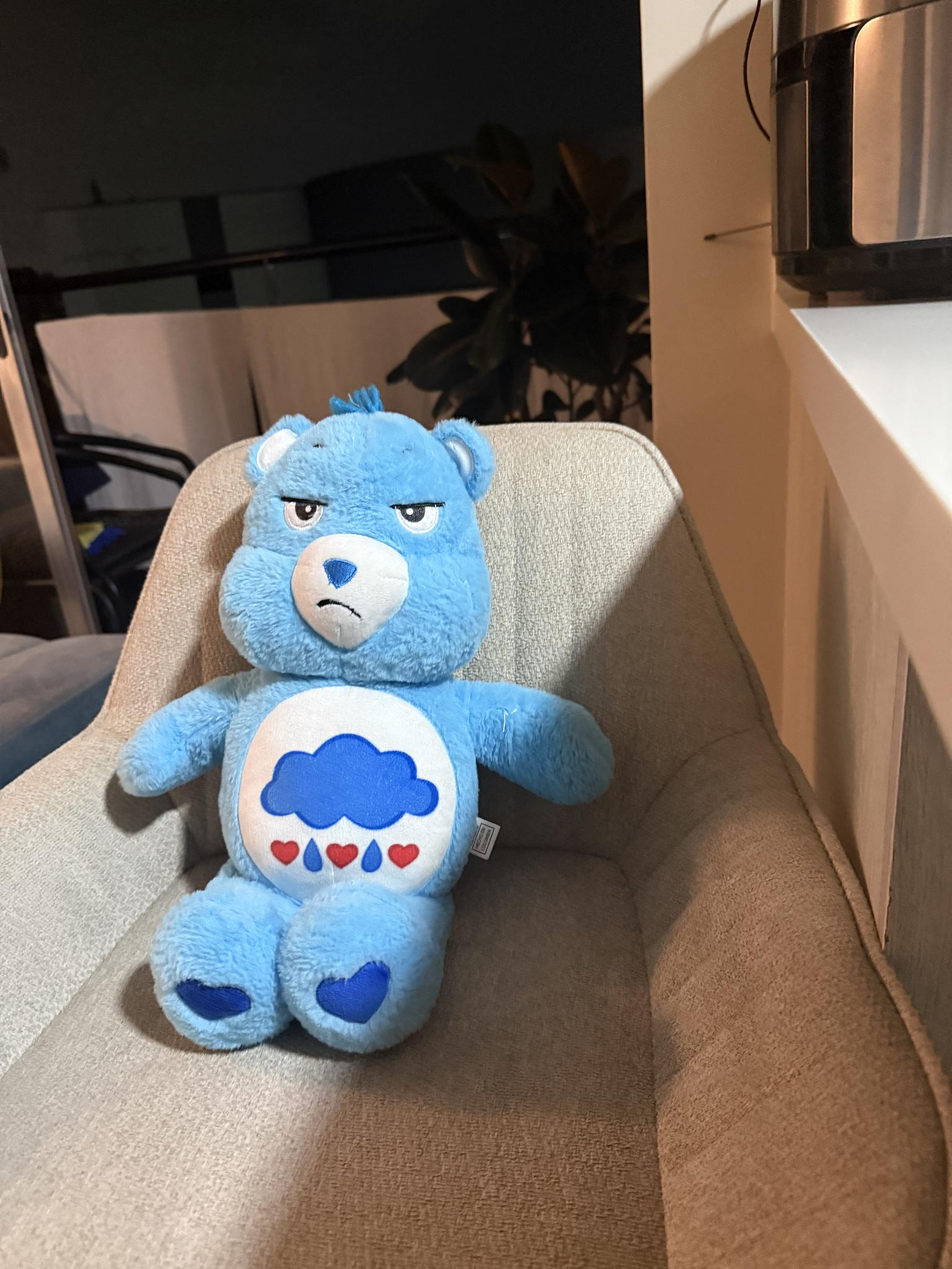peluche_Juan Jose: (109, 389, 618, 1066)
